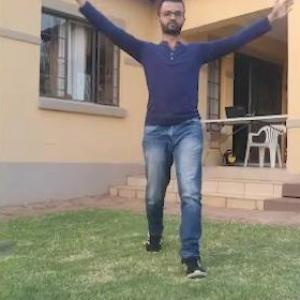takeoff: (74, 0, 299, 278)
